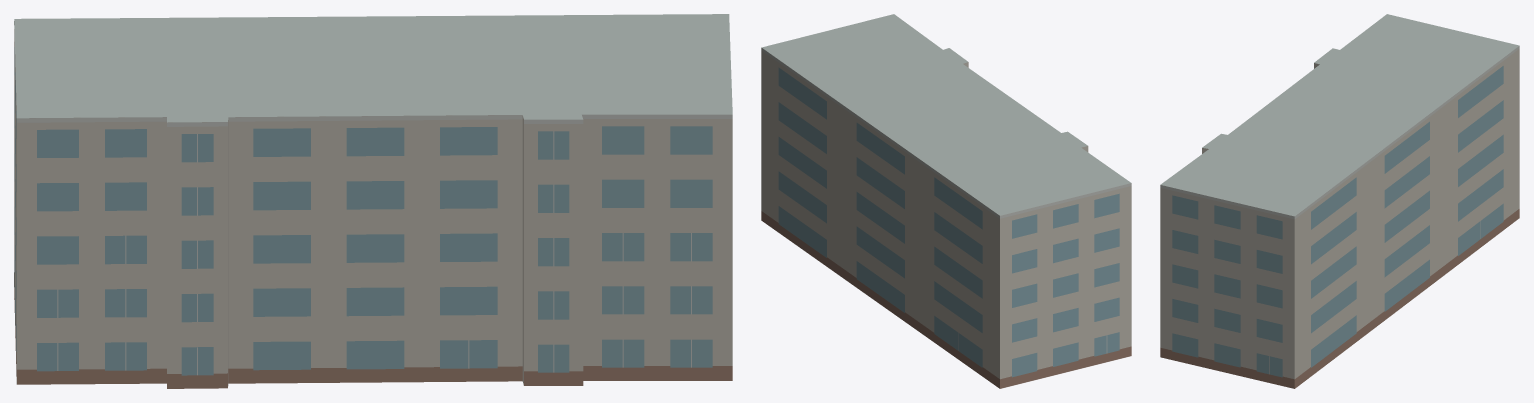
File: survey-upis-32876003.glb
3 views of the same model, side by side, from view 1: azimuth 30°, elevation 25°; view 2: azimuth 150°, elevation 25°; view 3: azimuth 270°, elevation 25° (orthographic). The views are drawn at different scales.
Parts seen in each view (by area): view 1: survey-upis-32876003.tmp; view 2: survey-upis-32876003.tmp; view 3: survey-upis-32876003.tmp.
Boxes of the visible parts, box(x1,y1,x2,y2) form: survey-upis-32876003.tmp: box(14, 14, 732, 388); survey-upis-32876003.tmp: box(761, 14, 1131, 388); survey-upis-32876003.tmp: box(1160, 14, 1519, 388).
Bounding box in the file's own units: 36.27 × 14.4 × 27.21.
